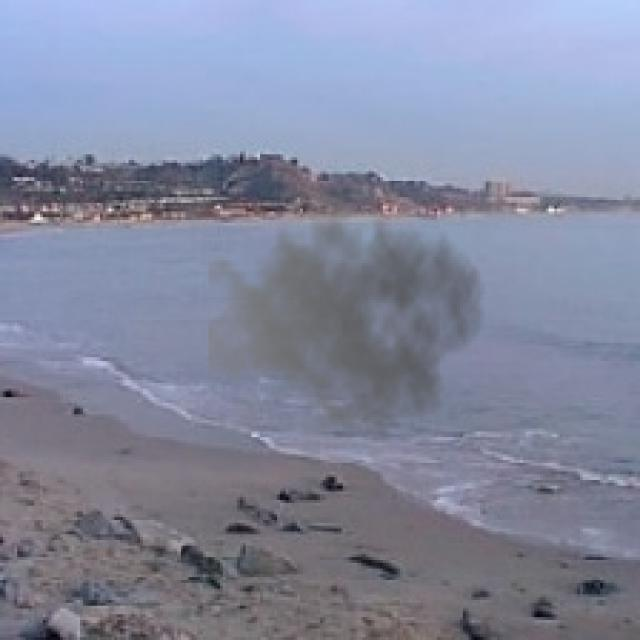smoke: (208, 186, 486, 443)
